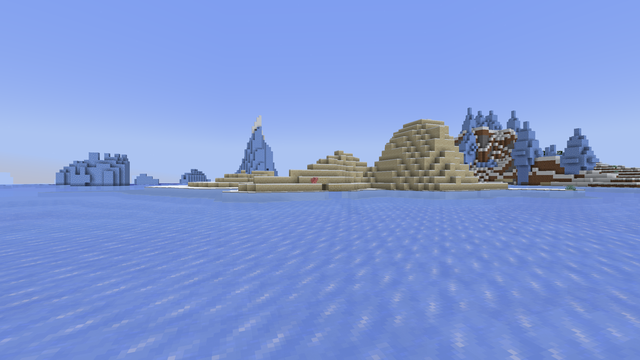cochons: (309, 177, 316, 183)
